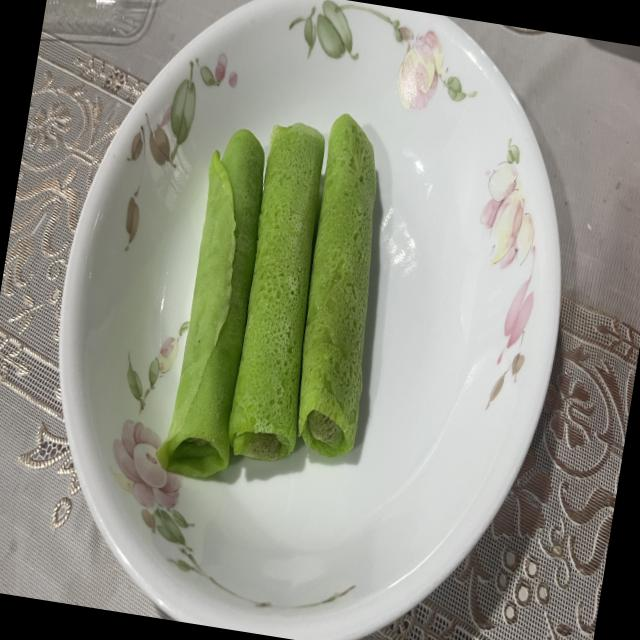Kuih-Ketayap: (157, 129, 265, 479), (229, 123, 325, 461), (298, 114, 377, 457)
